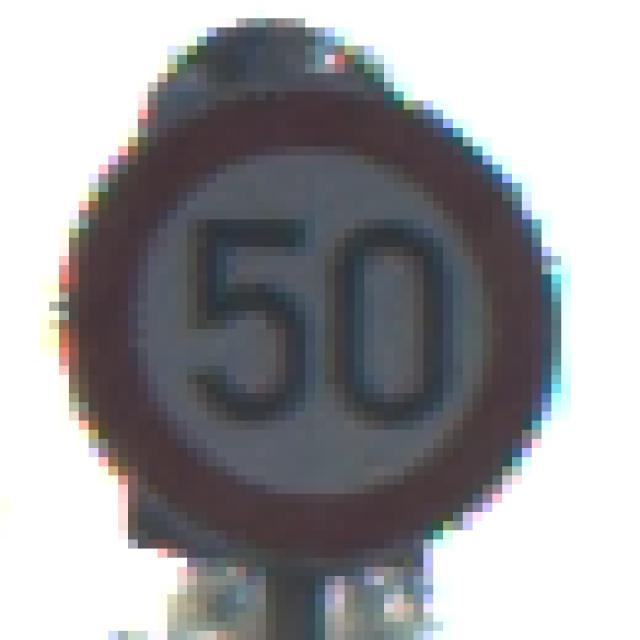speed limit 50: (69, 95, 558, 560)
